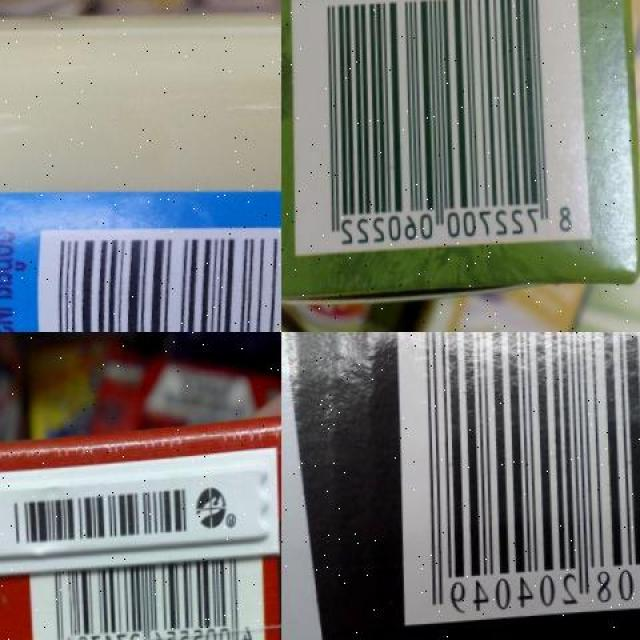Barcode: (284, 0, 585, 256), (392, 332, 640, 624), (38, 217, 282, 332), (31, 549, 252, 640)
